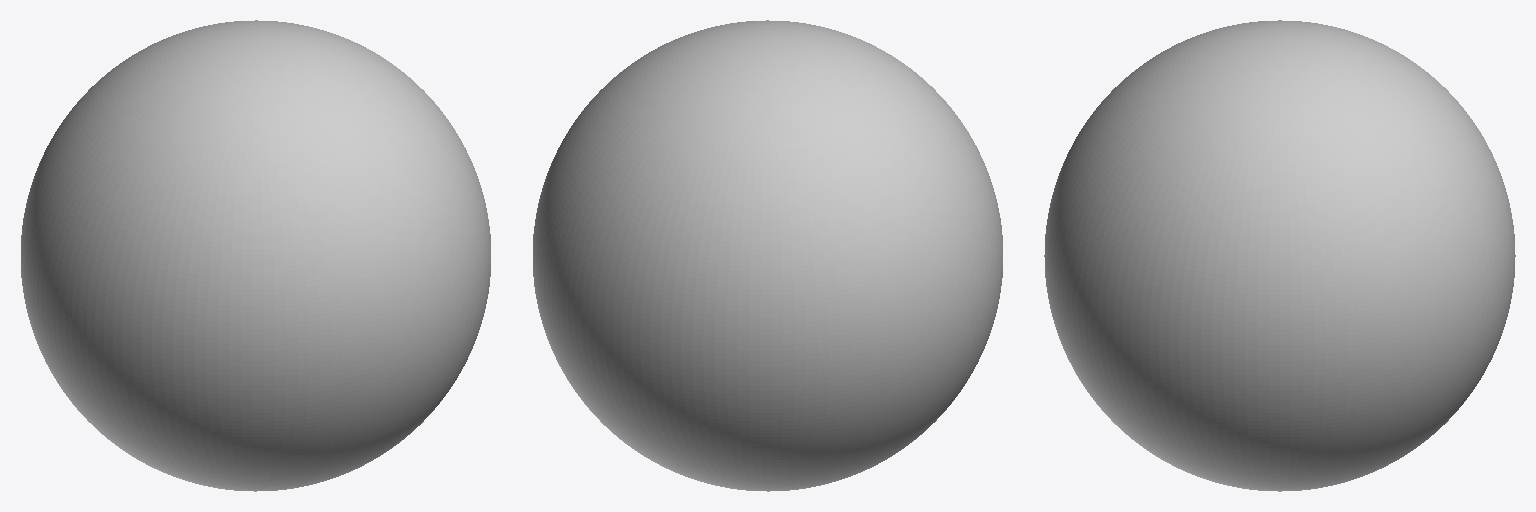
File: HDR.obj
3 renders of one model, left to right at view 1: azimuth 30°, elevation 25°; view 2: azimuth 150°, elevation 25°; view 3: azimuth 270°, elevation 25°, orthographic.
Parts seen in each view (by area): view 1: 球; view 2: 球; view 3: 球.
Part boxes in pixels (x1,y1,x2,y2): 球: (21, 20, 490, 491); 球: (533, 20, 1002, 491); 球: (1044, 20, 1515, 491).
Bounding box in the file's own units: 44.77 × 44.77 × 44.77.